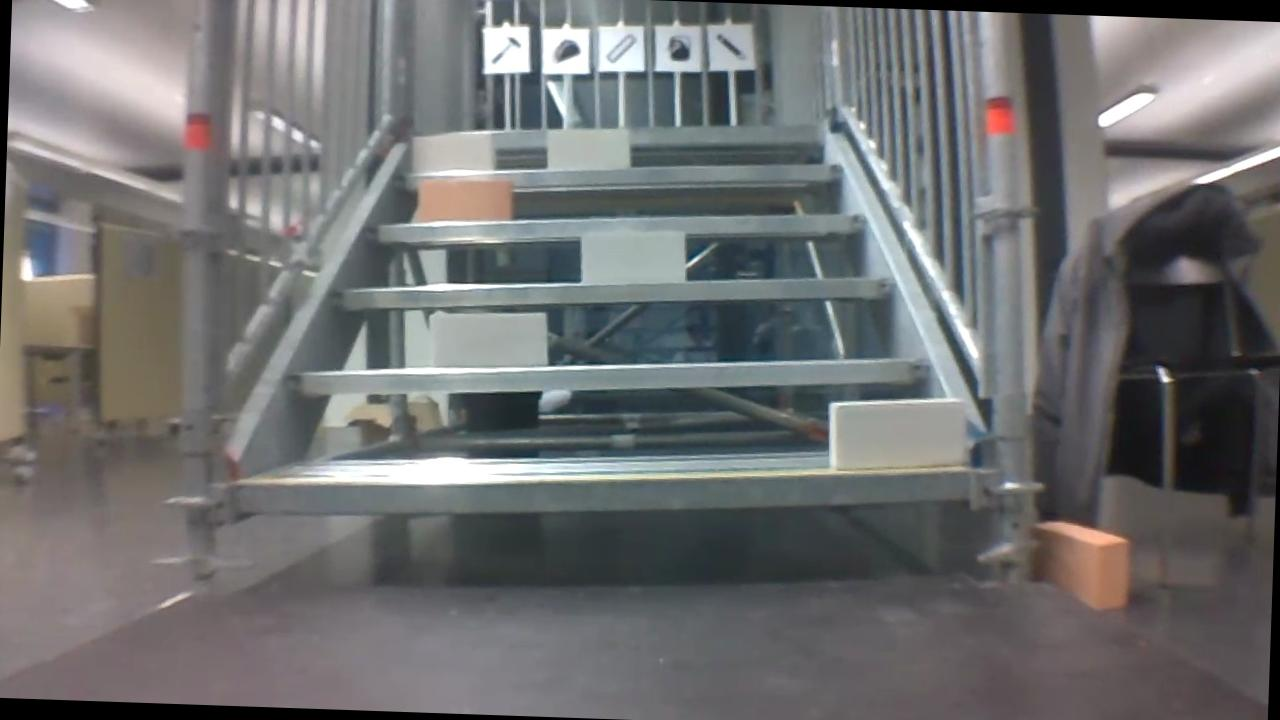brick: (826, 395, 967, 473), (429, 310, 546, 367), (581, 226, 685, 283), (416, 178, 511, 223), (545, 126, 628, 171), (413, 129, 491, 171)
bucket: (662, 31, 696, 65)
edge: (237, 446, 976, 530), (288, 339, 929, 412), (333, 259, 897, 322), (367, 198, 871, 258), (398, 151, 853, 201), (415, 109, 820, 155)
hammer: (485, 29, 522, 68)
pencil: (710, 29, 750, 64)
ruler: (604, 31, 639, 64)
steps: (225, 94, 995, 545)
taco: (550, 34, 586, 65)
